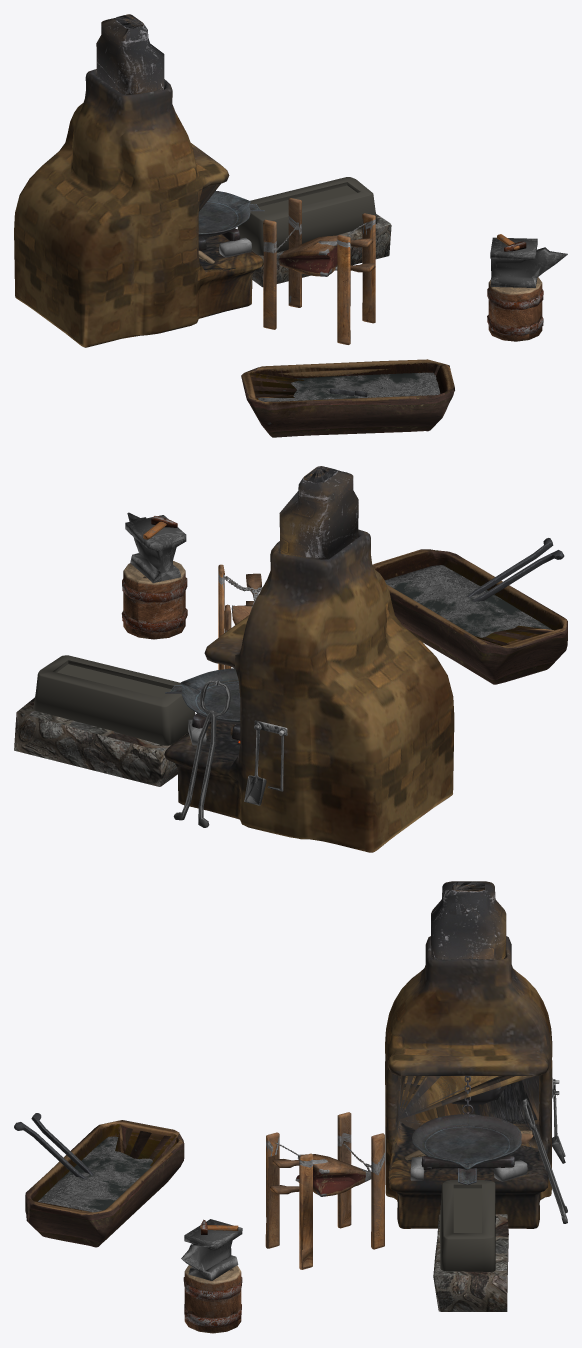
File: StoveForgeBlackSmith.fbx
3 views of the same model, one above another, from view 1: azimuth 30°, elevation 25°; view 2: azimuth 150°, elevation 25°; view 3: azimuth 270°, elevation 25° (orthographic). The views are drawn at different scales.
Parts seen in each view (by area): view 1: StoveForgeBlackSmith; view 2: StoveForgeBlackSmith; view 3: StoveForgeBlackSmith.
Boxes of the visible parts, x1=… form: StoveForgeBlackSmith: x1=14, y1=14, x2=567, y2=437; StoveForgeBlackSmith: x1=14, y1=466, x2=567, y2=852; StoveForgeBlackSmith: x1=14, y1=881, x2=567, y2=1333.
Size of the model in its own units: 639 by 455 by 758.
